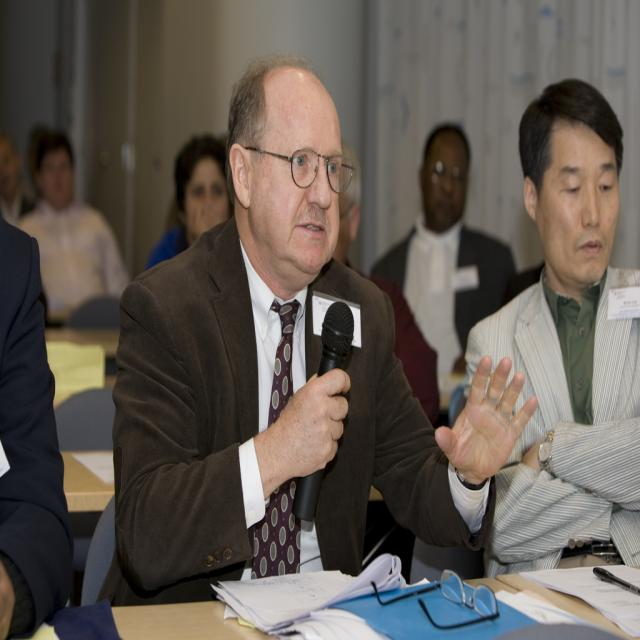chair: (80, 492, 118, 607), (53, 385, 116, 452)
desk: (23, 578, 623, 640)
person: (104, 44, 514, 603), (457, 79, 639, 579), (368, 121, 518, 407), (0, 218, 72, 636), (17, 126, 131, 324), (144, 134, 230, 270), (0, 131, 24, 224)
